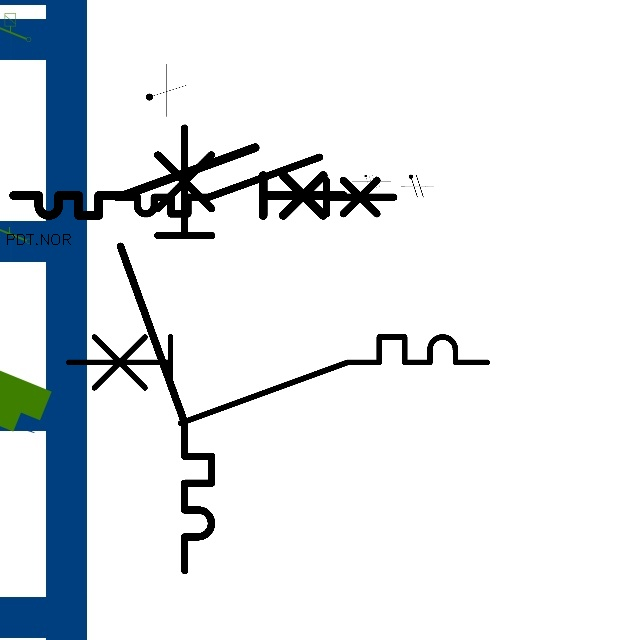interruptor_termomagnetico: (109, 116, 223, 581), (58, 326, 498, 433), (5, 139, 352, 224), (109, 150, 401, 221)
